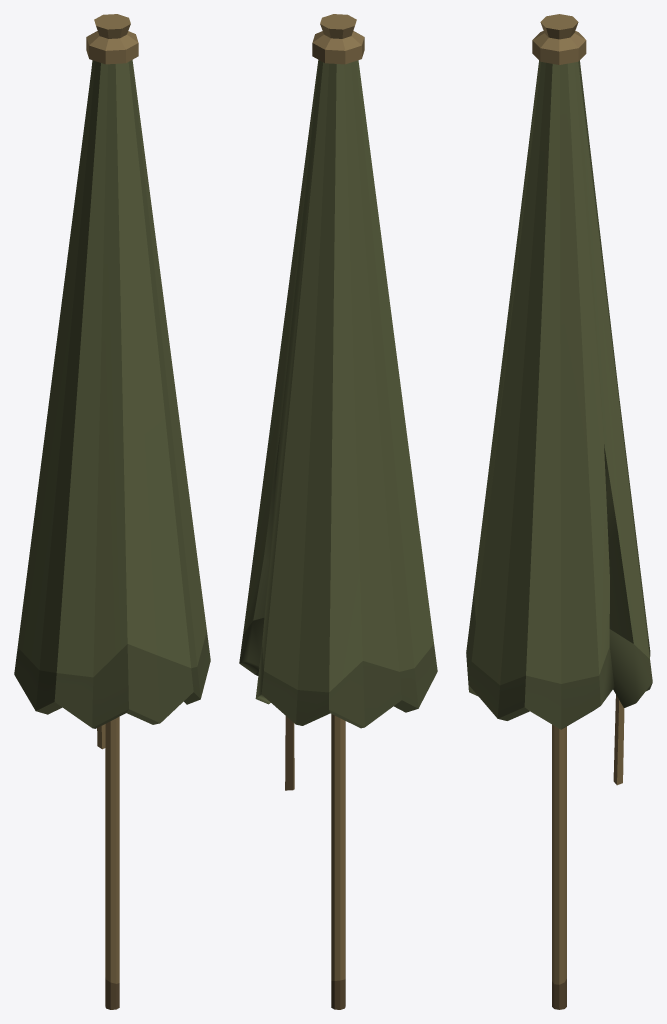
The model's file is apoc_SM_Prop_Umbrella_Closed_01.gltf.
3 views of the same model, side by side, from view 1: azimuth 30°, elevation 25°; view 2: azimuth 150°, elevation 25°; view 3: azimuth 270°, elevation 25° (orthographic).
Visible parts, largest first — view 1: SM_Prop_Umbrella_Closed_01; view 2: SM_Prop_Umbrella_Closed_01; view 3: SM_Prop_Umbrella_Closed_01.
Part boxes in pixels (x1,y1,x2,y2): SM_Prop_Umbrella_Closed_01: (14, 14, 210, 1009); SM_Prop_Umbrella_Closed_01: (239, 14, 437, 1009); SM_Prop_Umbrella_Closed_01: (466, 14, 652, 1009).
Size of the model in its own units: 0.4288 by 2.5 by 0.4288.
1 material, 1 textured.
